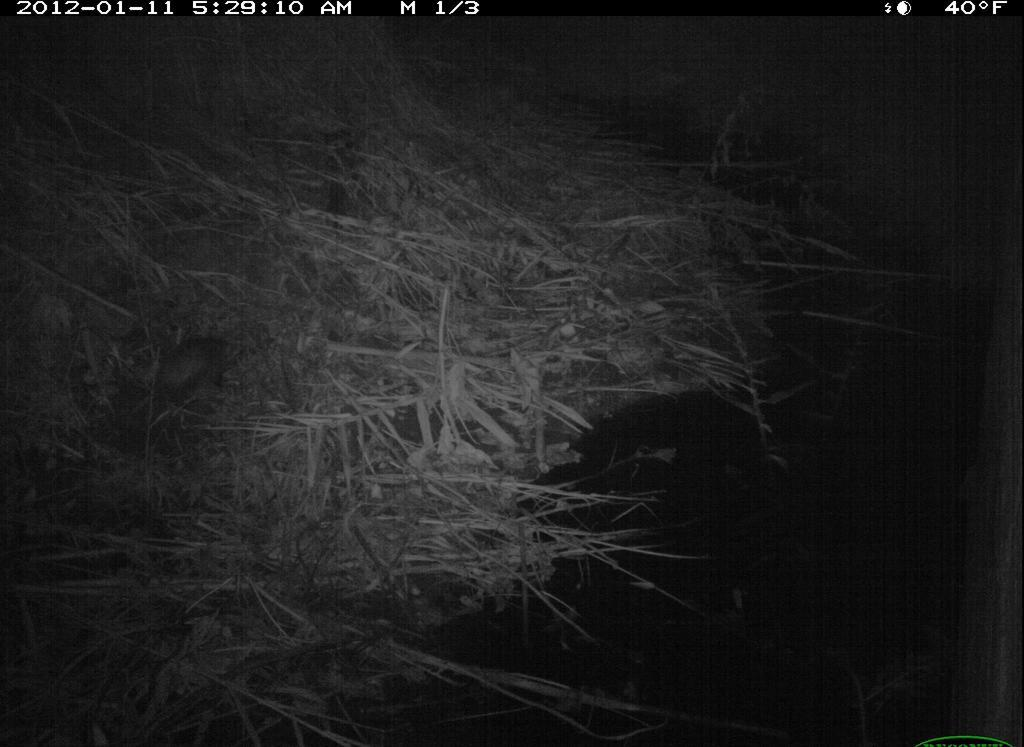opossum: (122, 323, 259, 432)
